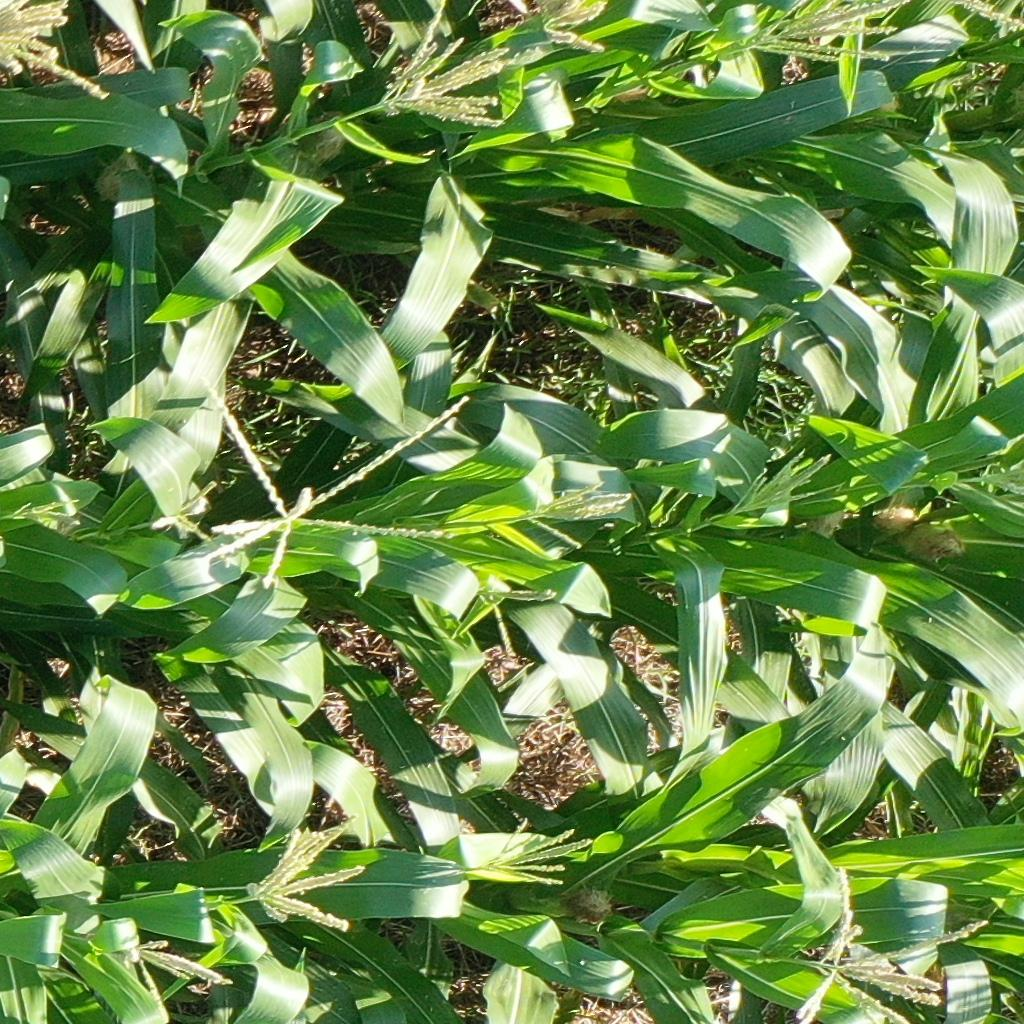Tassel: (196, 371, 482, 588), (793, 867, 992, 1024), (381, 1, 518, 130), (241, 811, 362, 931), (738, 1, 914, 67), (1, 1, 113, 101), (125, 936, 233, 1024), (525, 474, 634, 552), (476, 817, 594, 889), (737, 451, 836, 518), (480, 581, 554, 664), (148, 475, 218, 549), (540, 1, 612, 60), (3, 494, 86, 532), (978, 462, 1024, 499)
